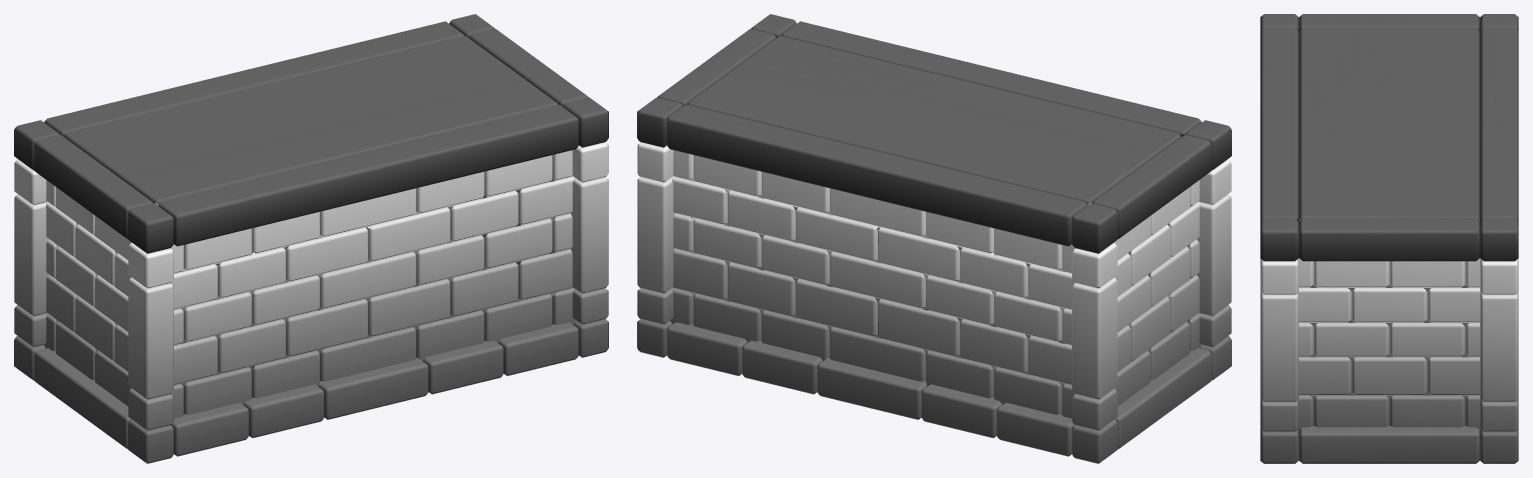
File: SM_Stone_Body_06.fbx
The picture shows the model from 3 angles, left to right: view 1: azimuth 30°, elevation 25°; view 2: azimuth 150°, elevation 25°; view 3: azimuth 270°, elevation 25°; orthographic projection. The views are drawn at different scales.
Parts seen in each view (by area): view 1: SM_Stone_Body_06; view 2: SM_Stone_Body_06; view 3: SM_Stone_Body_06.
Boxes of the visible parts, x1,y1,x2,y2 form: SM_Stone_Body_06: (14,14,608,463); SM_Stone_Body_06: (637,14,1231,463); SM_Stone_Body_06: (1260,14,1518,463).
Size of the model in its own units: 2 by 0.9999 by 0.9999.
